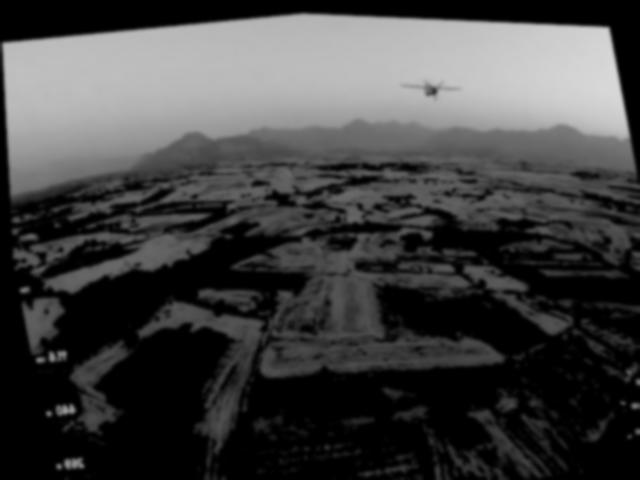hedef: (393, 57, 474, 111)
